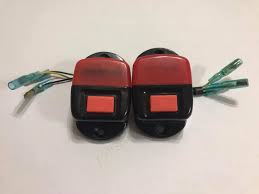bell: (130, 46, 193, 142)
